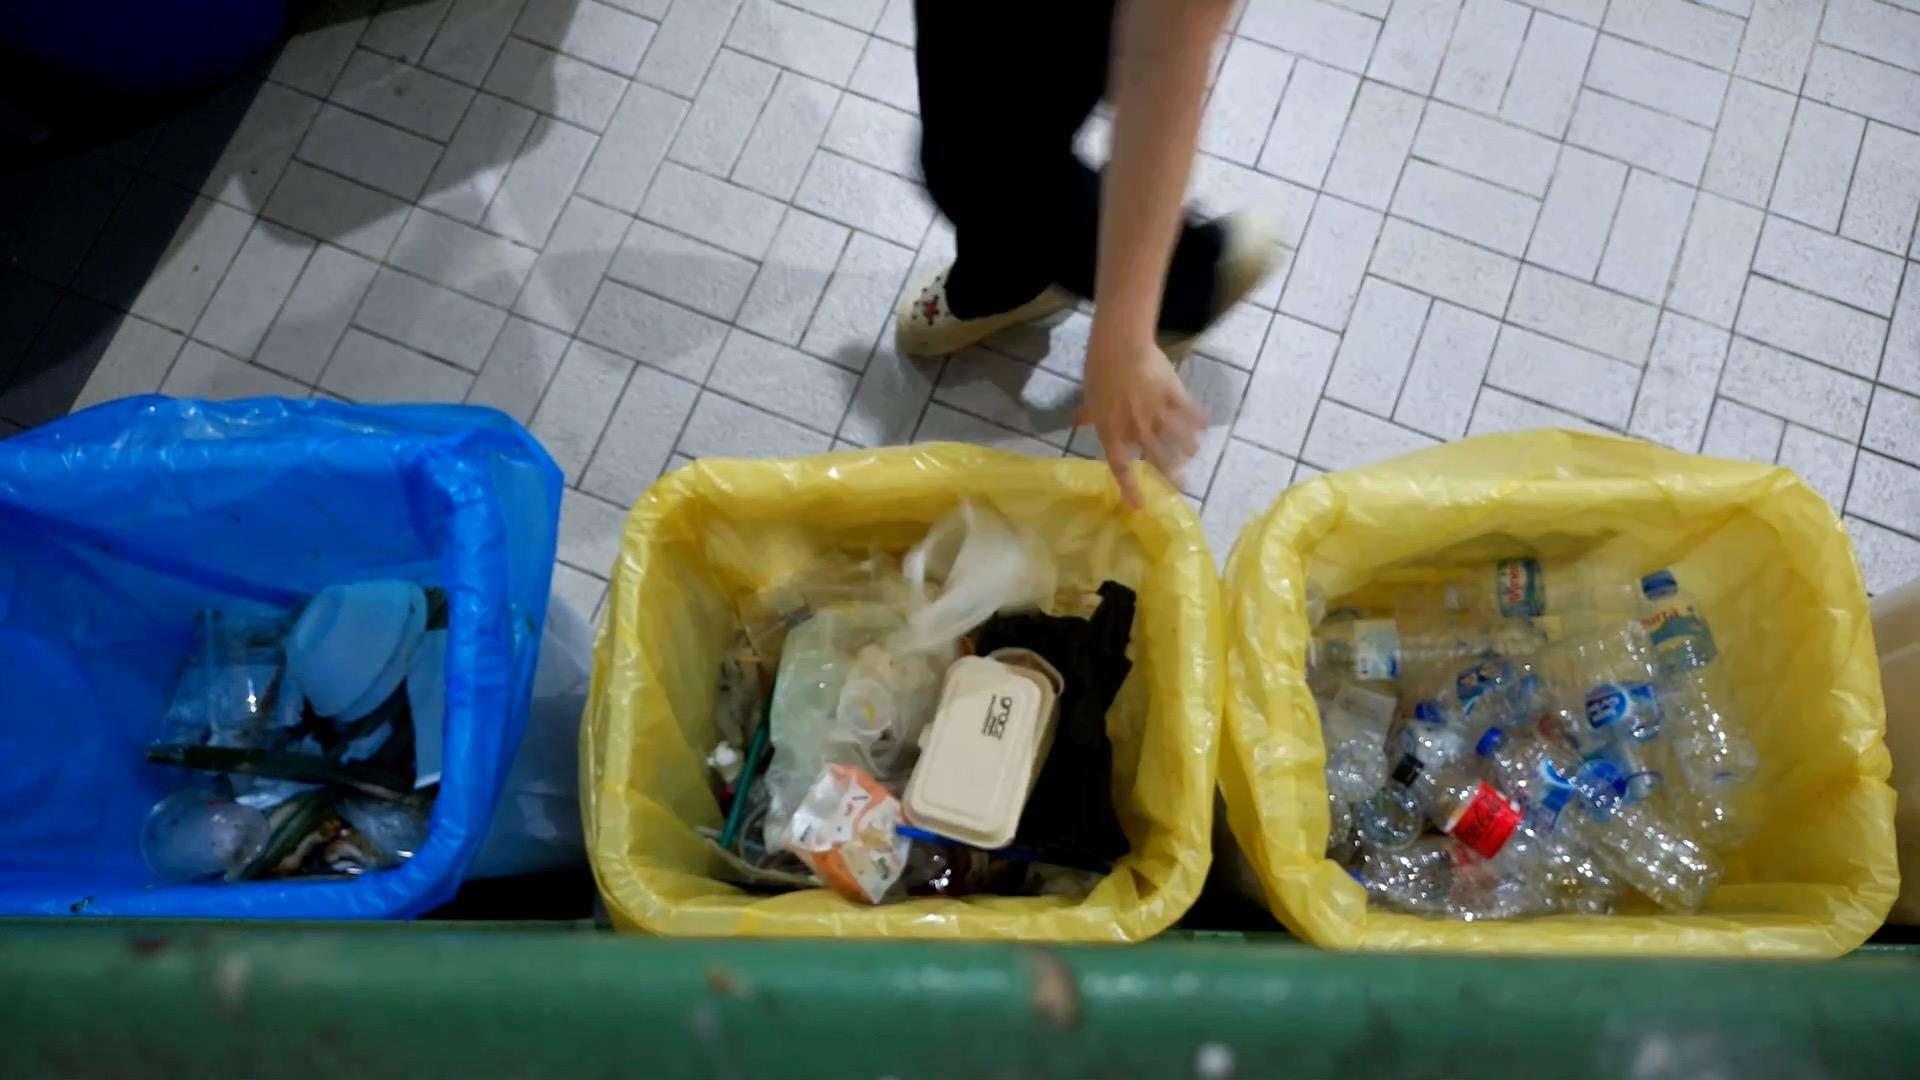food container: (901, 646, 1065, 853), (284, 576, 429, 725), (836, 676, 897, 736)
plastic bag: (976, 550, 1135, 869), (762, 608, 942, 861), (901, 495, 1058, 644)
plastic bottle: (1474, 725, 1724, 919), (1389, 753, 1625, 918), (1639, 568, 1774, 852), (1416, 622, 1663, 727), (1365, 559, 1633, 620), (1307, 620, 1551, 683)
plastic cup: (140, 789, 273, 885)
snack packaging: (785, 760, 914, 903)
straw: (716, 720, 770, 857)
